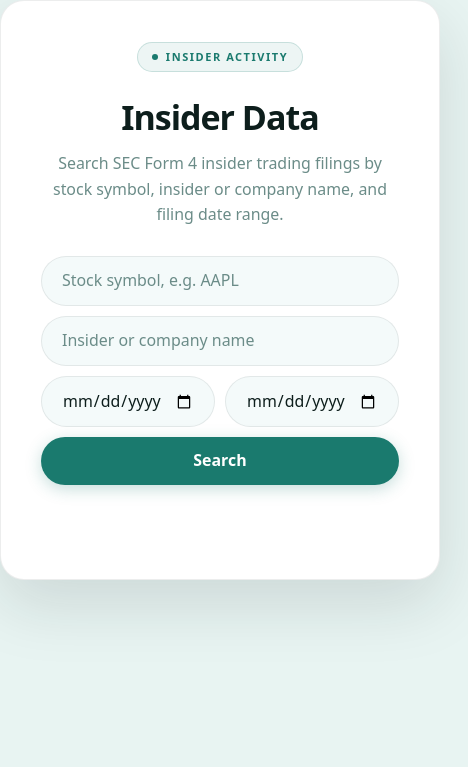
Test: InsiderData › searches by symbol alone and renders the results in a table
Type "BKKT" into the field with id "txtInsiderSymbol" at point(220, 281), box [41,256,399,306]
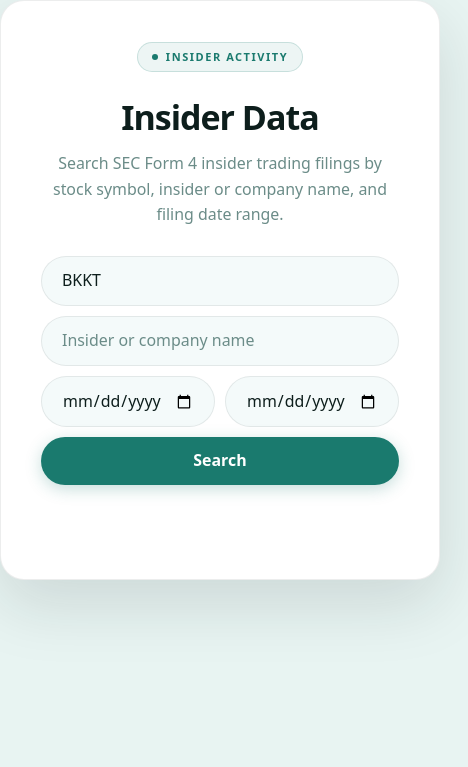
Click the button "Search" at point(220, 461), box [41,438,399,485]
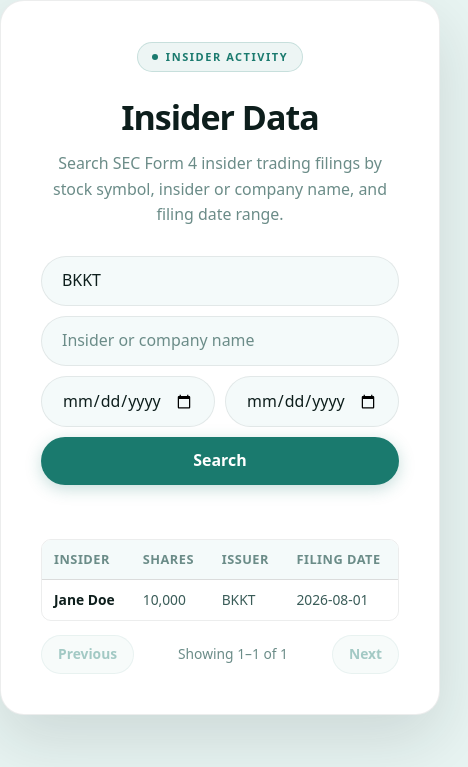
Check: the row with test id "insider-result-row" shows "Jane Doe", box [54,590,115,609]
